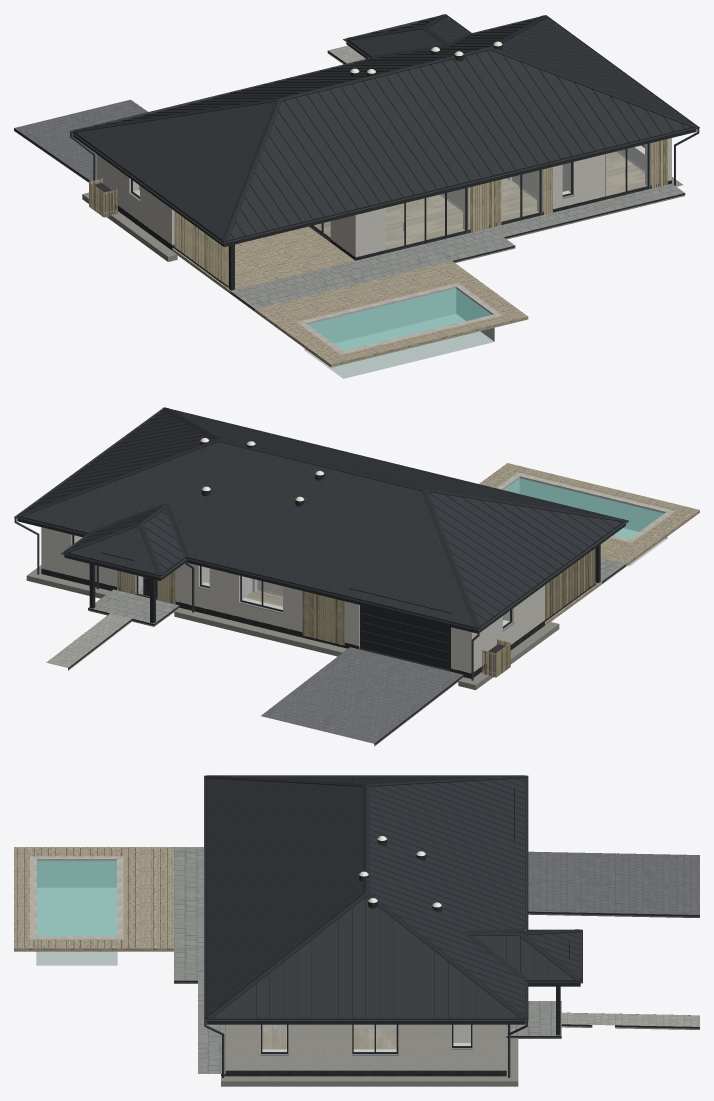
The model's file is house.glb.
3 views of the same model, one above another, from view 1: azimuth 30°, elevation 25°; view 2: azimuth 150°, elevation 25°; view 3: azimuth 270°, elevation 25° (orthographic). The views are drawn at different scales.
Parts seen in each view (by area): view 1: roof_tile, deck_O8, pool_liner_O9, plaster, terrace_paving_O2, water_O9, ridge_cap, deck_O1, fascia, drive_paving_O4, gutter, floor_oak_R04 (+16 smaller); view 2: roof_tile, drive_paving_O4, plaster, ridge_cap, fascia, garage_door_G01, gutter, gravel, deck_O8, pool_liner_O9, water_O9, slab (+11 smaller); view 3: roof_tile, drive_paving_O4, plaster, deck_O8, pool_liner_O9, water_O9, ridge_cap, terrace_paving_O2, gutter, gravel, fascia, slab (+10 smaller).
Part boxes in pixels (x1,y1,x2,y2): roof_tile: [76, 17, 690, 239]; deck_O8: [255, 261, 528, 367]; pool_liner_O9: [304, 287, 494, 378]; plaster: [97, 138, 671, 257]; terrace_paving_O2: [230, 228, 515, 311]; water_O9: [308, 288, 491, 350]; ridge_cap: [73, 14, 696, 242]; deck_O1: [172, 226, 355, 293]; fascia: [72, 15, 696, 246]; drive_paving_O4: [14, 99, 147, 182]; gutter: [69, 14, 699, 244]; floor_oak_R04: [314, 194, 464, 249]; roof_tile: [23, 410, 621, 626]; drive_paving_O4: [261, 647, 463, 746]; plaster: [41, 527, 544, 673]; ridge_cap: [17, 407, 625, 628]; fascia: [17, 409, 625, 633]; garage_door_G01: [361, 605, 450, 669]; gutter: [14, 407, 628, 680]; gravel: [26, 565, 559, 690]; deck_O8: [479, 463, 699, 566]; pool_liner_O9: [503, 477, 667, 566]; water_O9: [504, 478, 663, 538]; slab: [41, 568, 544, 678]; roof_tile: [207, 776, 579, 1018]; drive_paving_O4: [528, 851, 699, 917]; plaster: [225, 1024, 506, 1070]; deck_O8: [14, 847, 173, 951]; pool_liner_O9: [36, 860, 117, 965]; water_O9: [37, 861, 116, 936]; ridge_cap: [205, 775, 582, 1020]; terrace_paving_O2: [174, 847, 203, 983]; gutter: [204, 775, 582, 1077]; gravel: [221, 1038, 518, 1086]; fascia: [206, 775, 580, 1024]; slab: [17, 848, 506, 1076].
Bounding box in the file's own units: 25.38 × 7.49 × 30.
30 materials, 13 textured.
